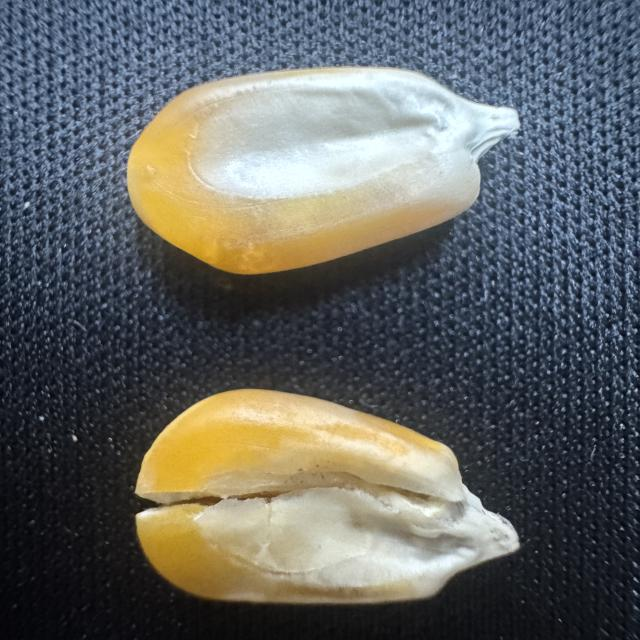Bad-Seed: (121, 381, 528, 616)
Good-Seed: (123, 59, 528, 284)
